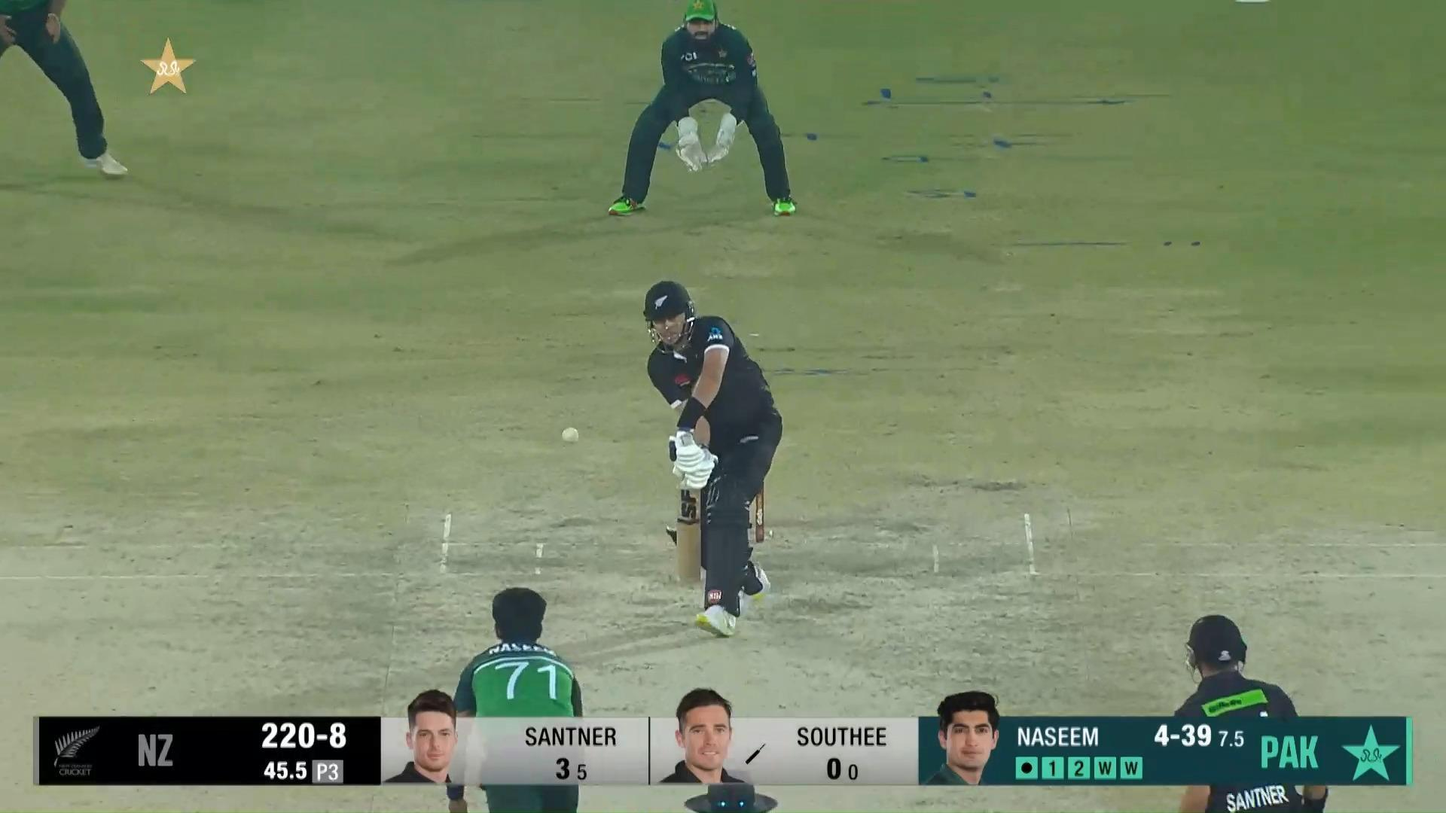BM 1: (644, 280, 784, 638)
BO: (447, 582, 587, 813)
